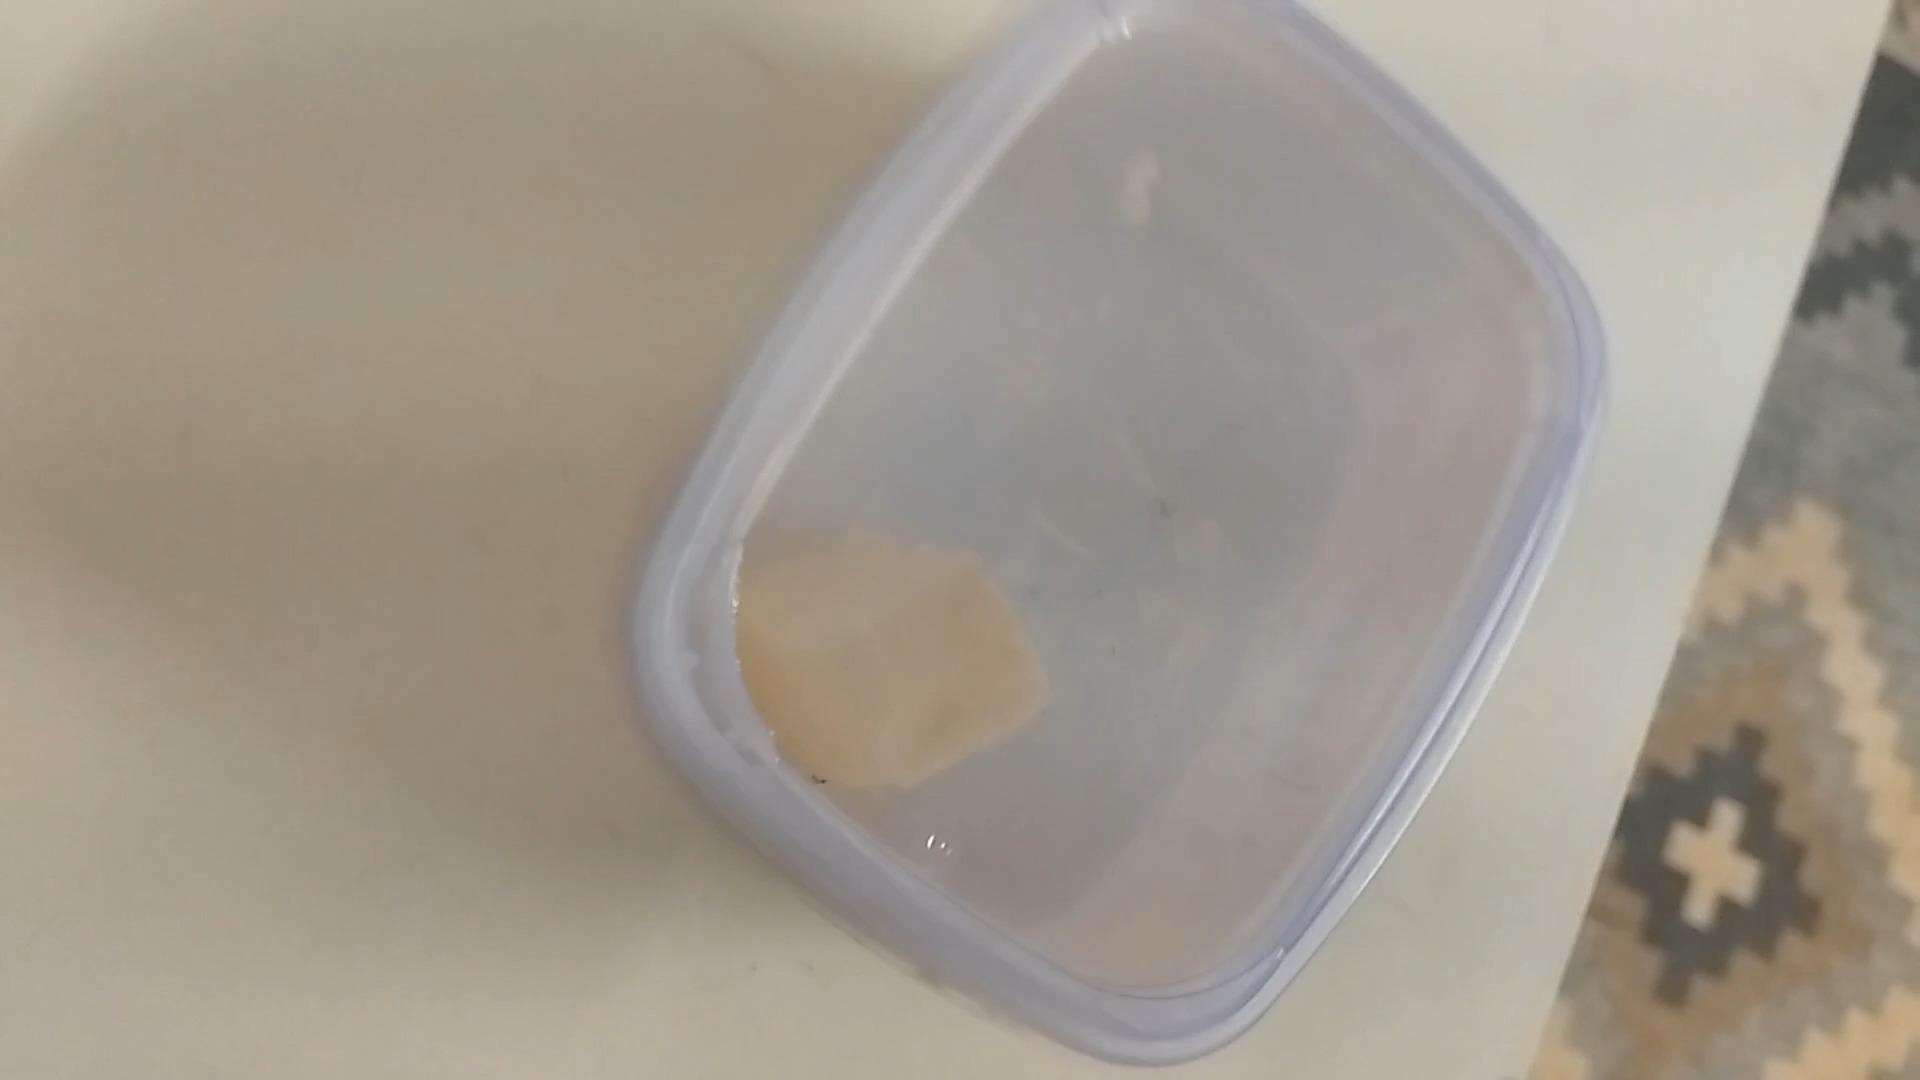butter: (633, 20, 1590, 1063)
